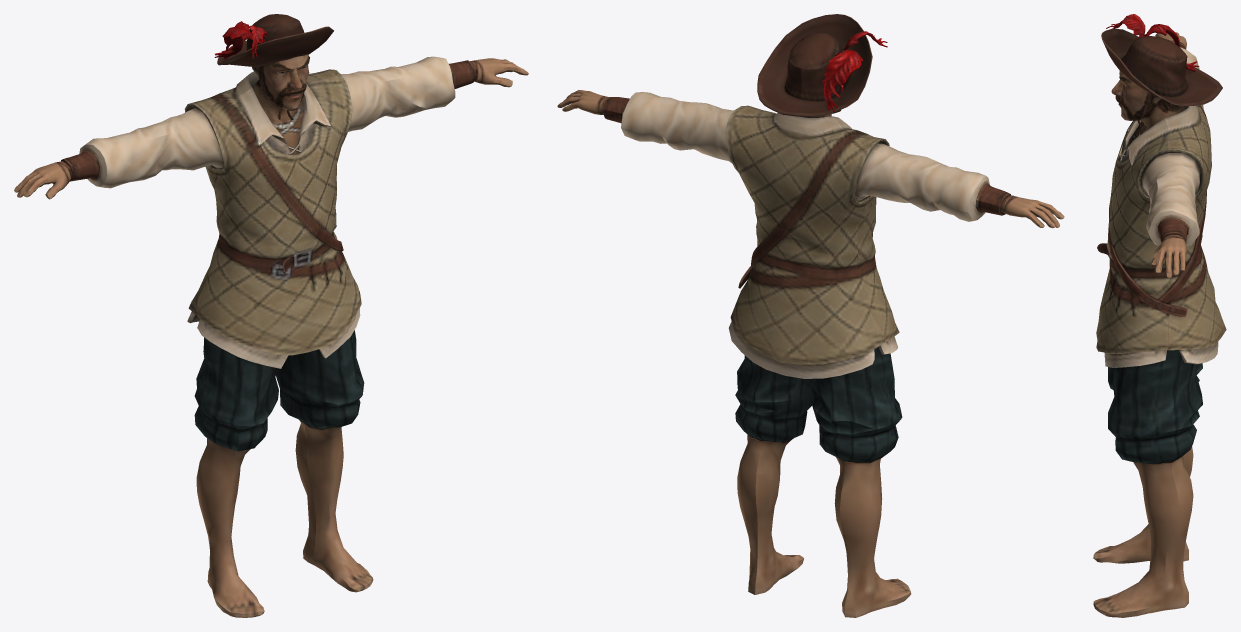
The model's file is 4466a50e-b7a9-40ef-9b1e-b2a03d16eff1.fbx.
3 renders of one model, left to right at view 1: azimuth 30°, elevation 25°; view 2: azimuth 150°, elevation 25°; view 3: azimuth 270°, elevation 25°, orthographic. The views are drawn at different scales.
Parts seen in each view (by area): view 1: Model; view 2: Model; view 3: Model.
Boxes of the visible parts, x1,y1,x2,y2 form: Model: (14,14,528,617); Model: (557,14,1064,617); Model: (1093,14,1226,617).
Size of the model in its own units: 44.98 by 48.77 by 10.64.
